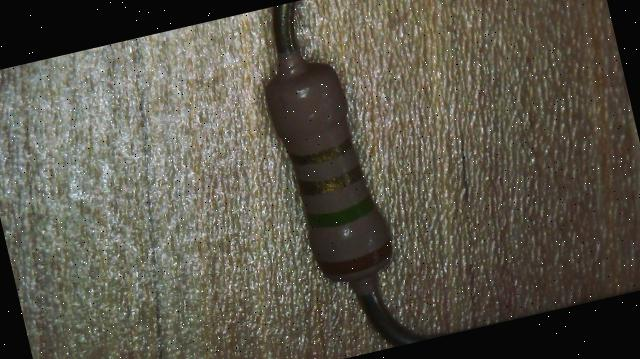brown: (317, 242, 394, 276)
gold: (299, 166, 365, 197), (288, 138, 356, 168)
green: (304, 195, 378, 231)
resistor: (236, 46, 425, 307)
